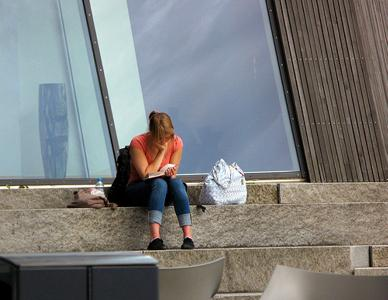person: (118, 112, 199, 253)
